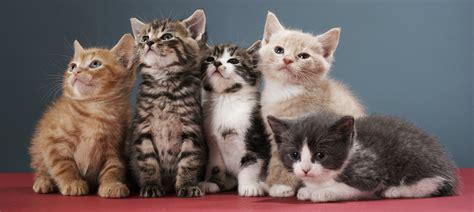cat: (29, 34, 137, 197), (265, 114, 458, 201), (126, 9, 208, 197), (259, 11, 365, 118), (200, 40, 266, 197)
